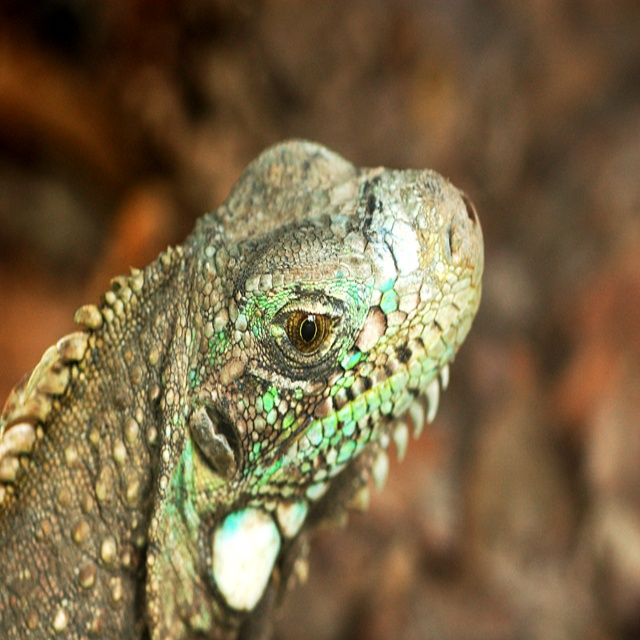Lizard: (0, 139, 484, 640)
